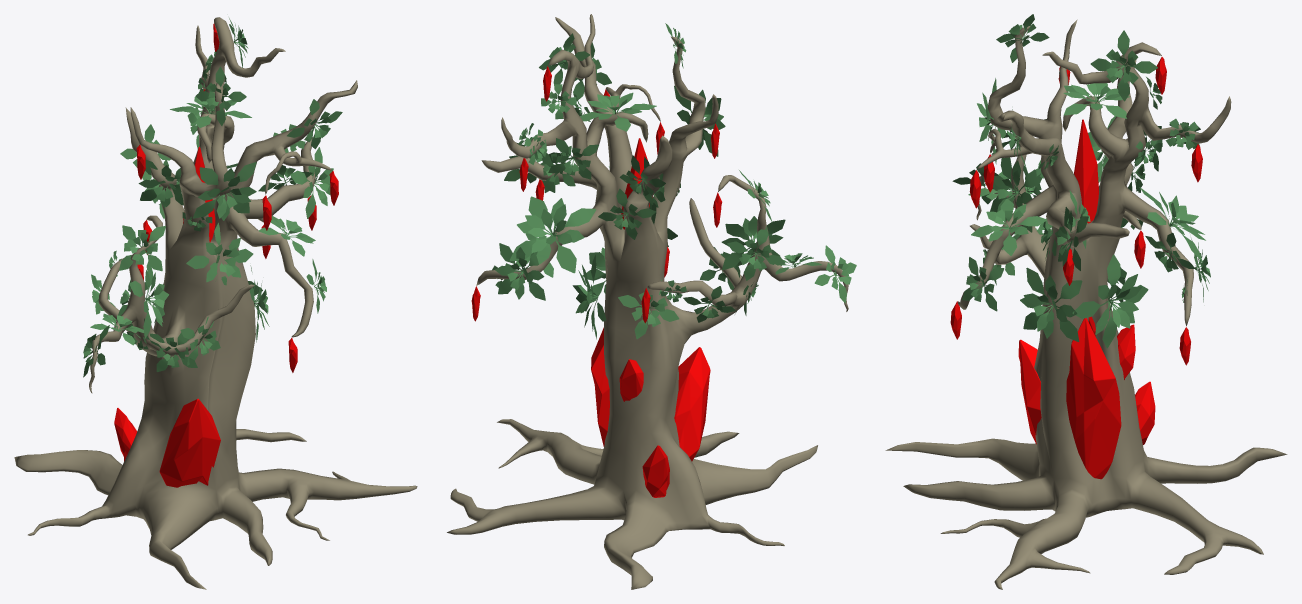
Rendered from Tree_LOD.fbx.
The picture shows the model from 3 angles, left to right: view 1: azimuth 30°, elevation 25°; view 2: azimuth 150°, elevation 25°; view 3: azimuth 270°, elevation 25°; orthographic projection. The views are drawn at different scales.
Parts seen in each view (by area): view 1: Tree_LOD0; view 2: Tree_LOD0; view 3: Tree_LOD0.
Part boxes in pixels (x1=…): Tree_LOD0: x1=14, y1=17, x2=417, y2=589; Tree_LOD0: x1=447, y1=14, x2=856, y2=589; Tree_LOD0: x1=885, y1=14, x2=1287, y2=589.
Size of what is drawn, in the model's own units: 4.62 by 6.07 by 4.45.
